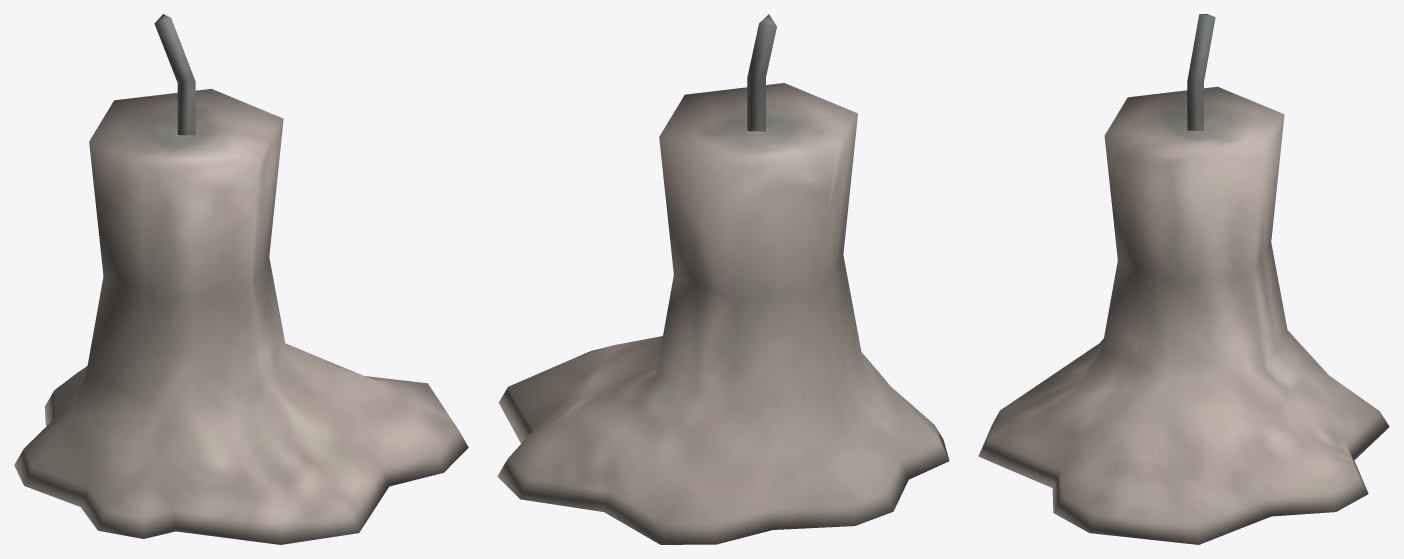
File: Stage_DiXiaCheng_LaZhu03.FBX
The picture shows the model from 3 angles, left to right: view 1: azimuth 30°, elevation 25°; view 2: azimuth 150°, elevation 25°; view 3: azimuth 270°, elevation 25°; orthographic projection. The views are drawn at different scales.
Visible parts, largest first — view 1: Stage_DiXiaCheng_LaZhu03; view 2: Stage_DiXiaCheng_LaZhu03; view 3: Stage_DiXiaCheng_LaZhu03.
Boxes of the visible parts, x1=… form: Stage_DiXiaCheng_LaZhu03: x1=14, y1=14, x2=468, y2=544; Stage_DiXiaCheng_LaZhu03: x1=497, y1=14, x2=949, y2=544; Stage_DiXiaCheng_LaZhu03: x1=978, y1=14, x2=1389, y2=544.
Bounding box in the file's own units: 29.08 × 30.98 × 28.07.
